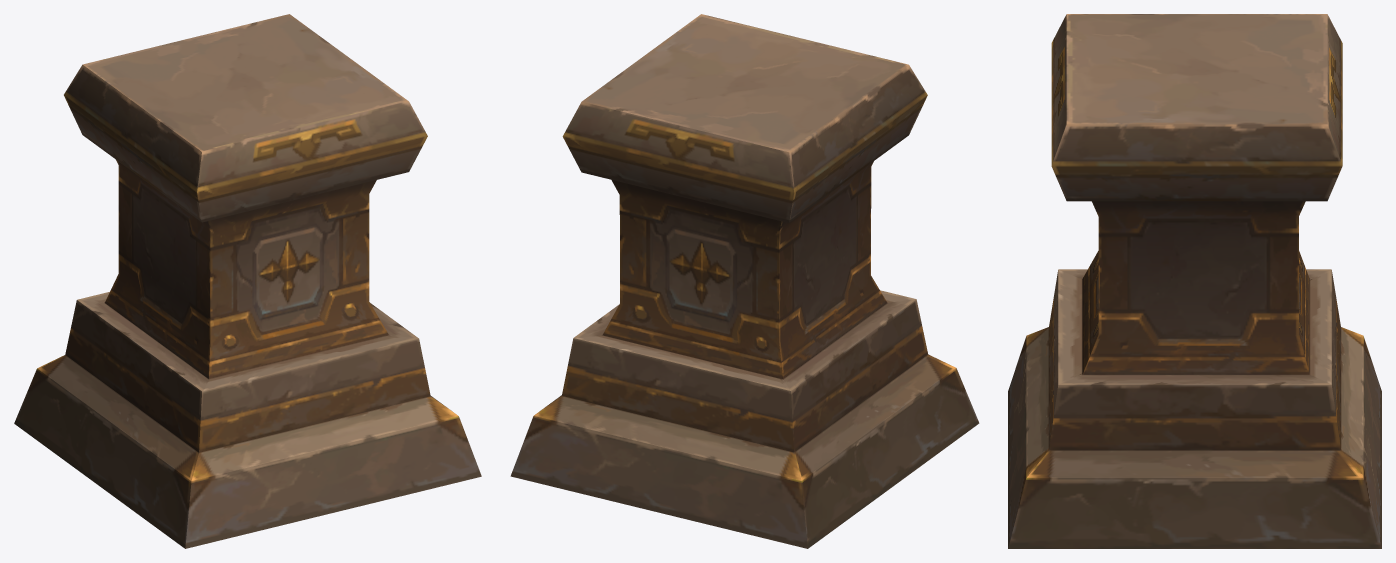
Rendered from fb_jjc_zj_04_c.FBX.
3 renders of one model, left to right at view 1: azimuth 30°, elevation 25°; view 2: azimuth 150°, elevation 25°; view 3: azimuth 270°, elevation 25°, orthographic. The views are drawn at different scales.
Visible parts, largest first — view 1: fb_jjc_zj_04_c; view 2: fb_jjc_zj_04_c; view 3: fb_jjc_zj_04_c.
Boxes of the visible parts, x1,y1,x2,y2 form: fb_jjc_zj_04_c: [14, 14, 481, 548]; fb_jjc_zj_04_c: [510, 14, 979, 548]; fb_jjc_zj_04_c: [1008, 14, 1381, 548].
Size of the model in its own units: 265 by 313 by 265.
